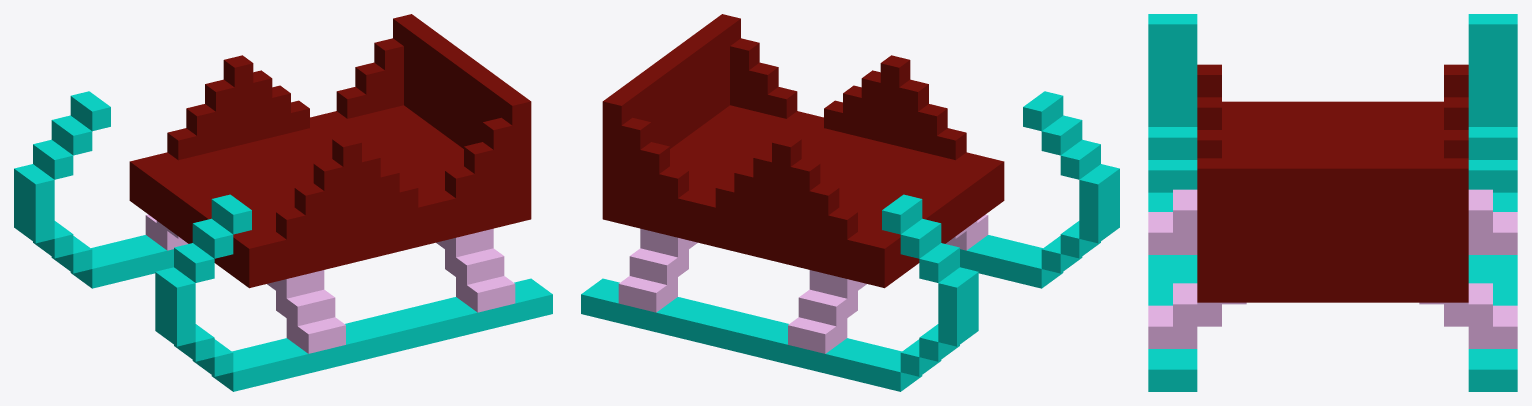
The model's file is Vehicle_1.fbx.
3 renders of one model, left to right at view 1: azimuth 30°, elevation 25°; view 2: azimuth 150°, elevation 25°; view 3: azimuth 270°, elevation 25°, orthographic. The views are drawn at different scales.
Visible parts, largest first — view 1: Vehicle_1; view 2: Vehicle_1; view 3: Vehicle_1.
Part boxes in pixels (bbox=[...]): Vehicle_1: bbox=[14, 14, 552, 391]; Vehicle_1: bbox=[581, 14, 1119, 391]; Vehicle_1: bbox=[1148, 14, 1517, 391].
Bounding box in the file's own units: 20 × 10 × 15.
1 material, 1 textured.
